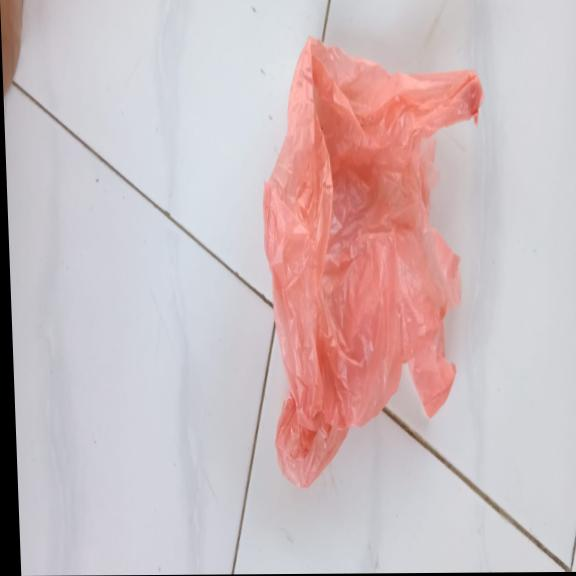Plastik: (256, 34, 497, 492)
